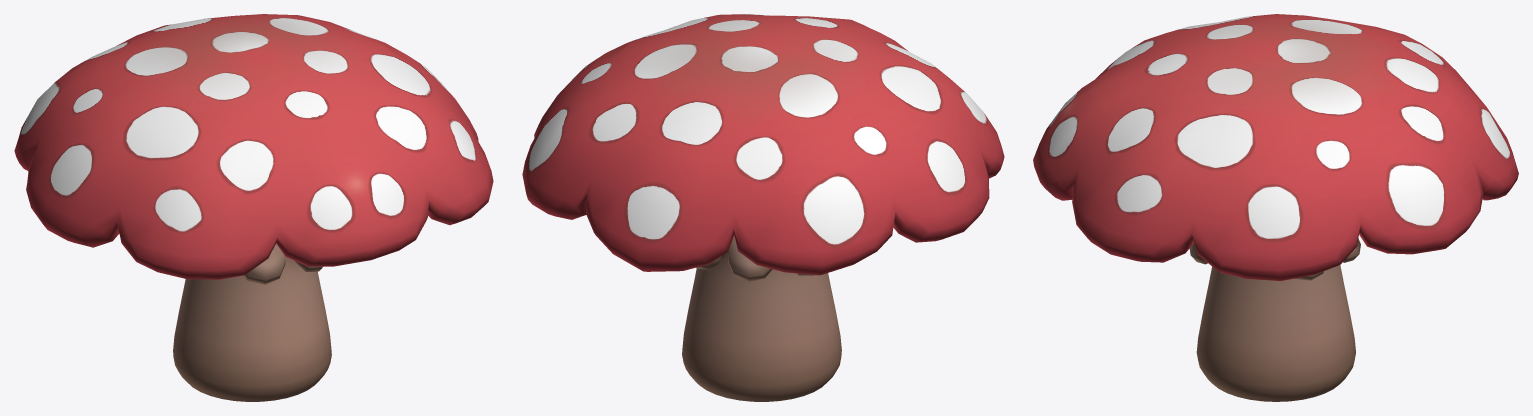
File: M_Spring.fbx
The picture shows the model from 3 angles, left to right: view 1: azimuth 30°, elevation 25°; view 2: azimuth 150°, elevation 25°; view 3: azimuth 270°, elevation 25°; orthographic projection.
Visible parts, largest first — view 1: MushSpring; view 2: MushSpring; view 3: MushSpring.
Boxes of the visible parts, x1,y1,x2,y2 form: MushSpring: [14, 14, 493, 401]; MushSpring: [522, 14, 1004, 401]; MushSpring: [1033, 14, 1518, 401].
Bounding box in the file's own units: 457 × 340 × 462.
1 material, 1 textured.
